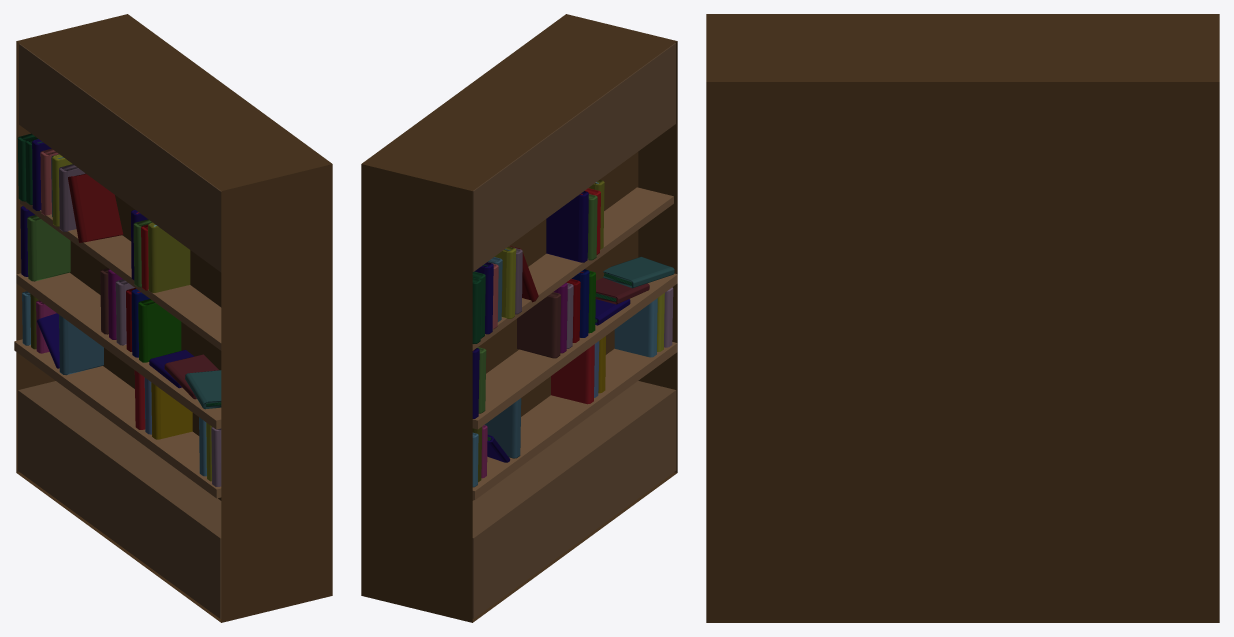
Rendered from bookshelfV3.fbx.
The picture shows the model from 3 angles, left to right: view 1: azimuth 30°, elevation 25°; view 2: azimuth 150°, elevation 25°; view 3: azimuth 270°, elevation 25°; orthographic projection. The views are drawn at different scales.
Parts seen in each view (by area): view 1: Cube, Cube.001, Cube.002, Cube.005, Cube.004, Cube.003, Cube.015, Cube.021, Cube.014, Cube.030, Cube.039, Cube.025 (+22 smaller); view 2: Cube, Cube.001, Cube.002, Cube.005, Cube.004, Cube.003, Cube.022, Cube.032, Cube.026, Cube.035, Cube.038, Cube.039 (+15 smaller); view 3: Cube.
Part boxes in pixels (x1,y1,x2,y2): Cube: (16, 14, 332, 622); Cube.001: (18, 381, 221, 618); Cube.002: (19, 44, 221, 272); Cube.005: (14, 339, 221, 498); Cube.004: (16, 272, 221, 429); Cube.003: (20, 200, 221, 350); Cube.015: (68, 173, 123, 242); Cube.021: (148, 222, 190, 292); Cube.014: (27, 215, 70, 281); Cube.030: (138, 299, 181, 362); Cube.039: (59, 315, 103, 375); Cube.025: (151, 382, 192, 439); Cube: (361, 14, 677, 622); Cube.001: (472, 381, 676, 618); Cube.002: (472, 43, 675, 271); Cube.005: (472, 342, 677, 499); Cube.004: (472, 273, 677, 429); Cube.003: (472, 187, 673, 350); Cube.022: (546, 191, 588, 262); Cube.032: (517, 292, 560, 358); Cube.026: (551, 344, 594, 404); Cube.035: (614, 298, 657, 357); Cube.038: (603, 256, 674, 288); Cube.039: (484, 398, 521, 458); Cube: (706, 14, 1219, 622).
Size of the model in its own units: 214 by 741 by 637.
